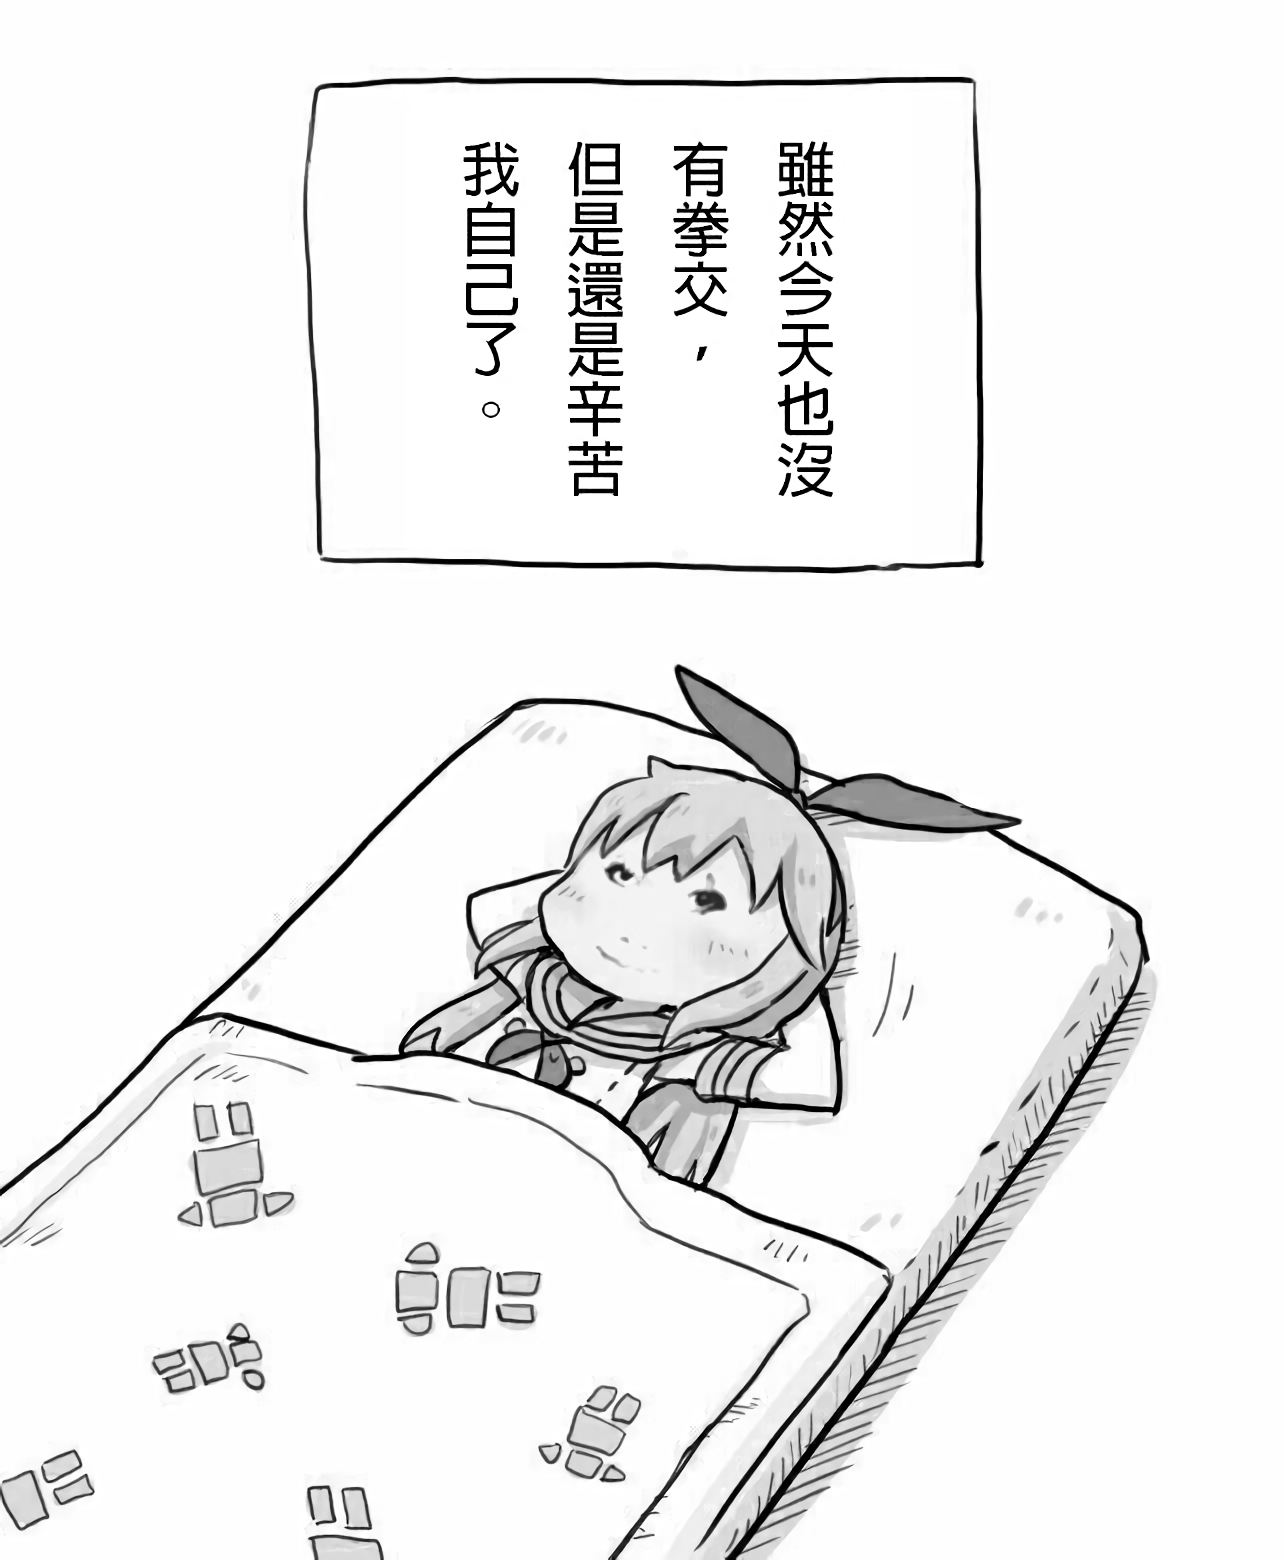dragon: (588, 855, 735, 992)
